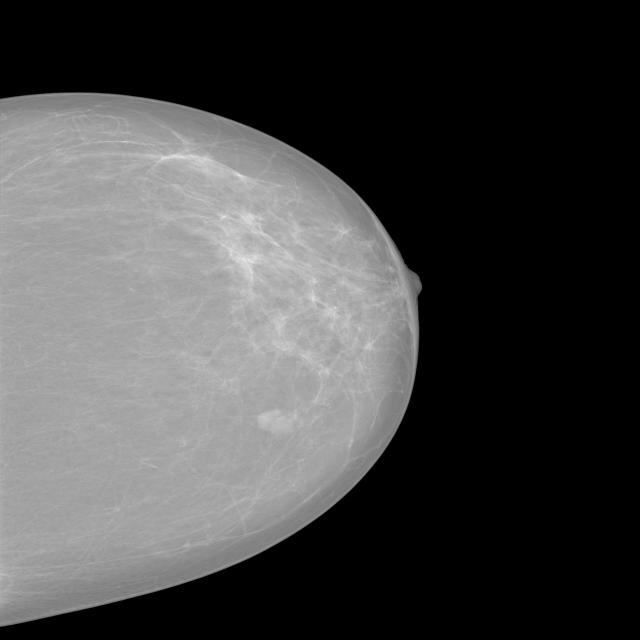Mass_1: (238, 397, 317, 449)
